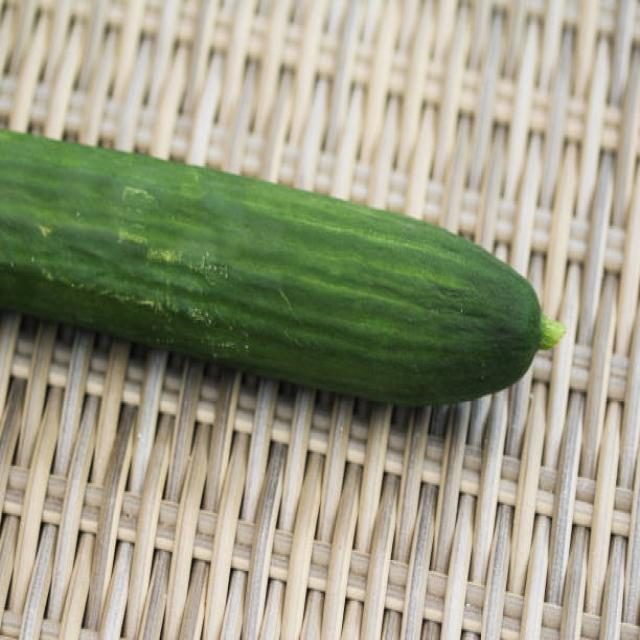cucumber: (0, 127, 544, 408)
